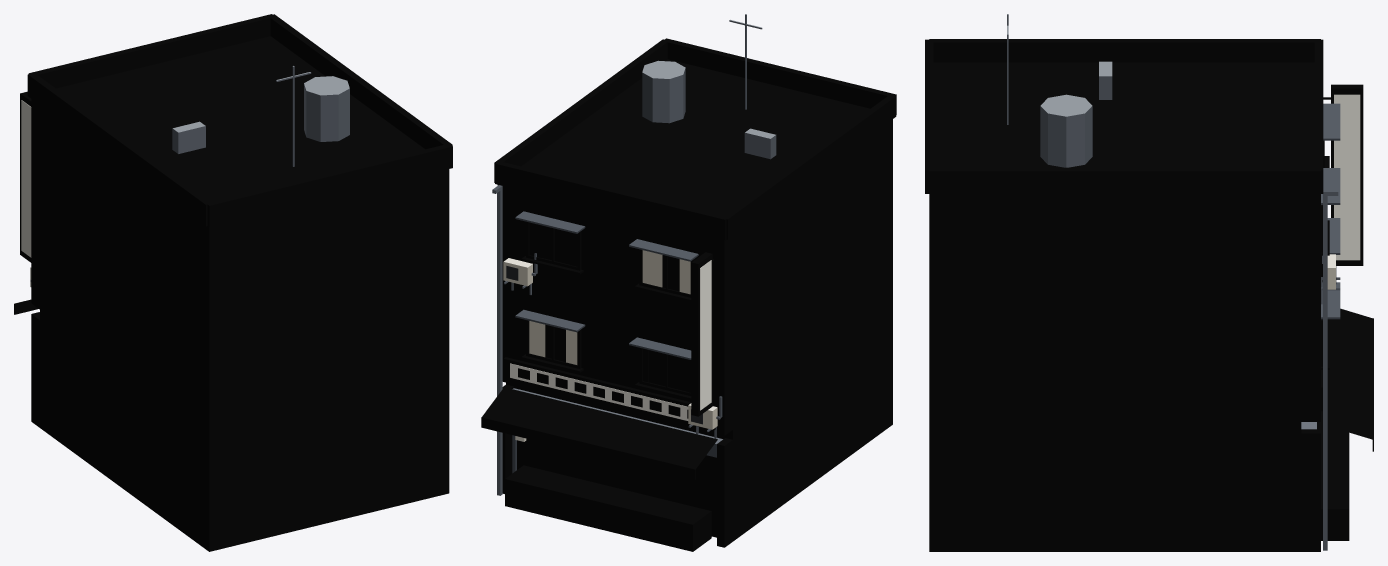
File: Shop_B.fbx
3 views of the same model, side by side, from view 1: azimuth 30°, elevation 25°; view 2: azimuth 150°, elevation 25°; view 3: azimuth 270°, elevation 25° (orthographic). The views are drawn at different scales.
Parts seen in each view (by area): view 1: BodyUp.001, RoofTop.002, BodyLow.001, RoofThings, GlowBlade, Pilasters.001; view 2: BodyUp.001, RoofTop.002, BodyLow.001, Awning, Glass.006, ShopStall.001, RoofThings, WinFrame.006, Hoods.005, Pilasters.001, Curtain0.006, Blade (+8 smaller); view 3: BodyUp.001, RoofTop.002, BodyLow.001, Awning, RoofThings, GlowBlade, ShopStall.001, Pilasters.001, Hoods.005, Pipes.006, Blade, WinFrame.006.
Part boxes in pixels (bbox=[...]): BodyUp.001: bbox=[31, 99, 449, 433]; RoofTop.002: bbox=[27, 14, 452, 227]; BodyLow.001: bbox=[40, 310, 449, 551]; RoofThings: bbox=[172, 66, 349, 166]; GlowBlade: bbox=[21, 100, 31, 257]; Pilasters.001: bbox=[31, 312, 39, 427]; BodyUp.001: bbox=[497, 119, 892, 435]; RoofTop.002: bbox=[494, 38, 896, 239]; BodyLow.001: bbox=[506, 313, 892, 541]; Awning: bbox=[481, 387, 717, 479]; Glass.006: bbox=[517, 225, 716, 536]; ShopStall.001: bbox=[505, 465, 711, 551]; RoofThings: bbox=[642, 14, 776, 159]; WinFrame.006: bbox=[521, 221, 694, 399]; Hoods.005: bbox=[515, 211, 698, 359]; Pilasters.001: bbox=[502, 384, 732, 547]; Curtain0.006: bbox=[529, 250, 690, 364]; Blade: bbox=[691, 252, 713, 416]; BodyUp.001: bbox=[929, 195, 1320, 421]; RoofTop.002: bbox=[925, 39, 1323, 194]; BodyLow.001: bbox=[929, 422, 1301, 551]; Awning: bbox=[1321, 308, 1373, 451]; RoofThings: bbox=[1007, 14, 1112, 167]; GlowBlade: bbox=[1334, 94, 1360, 260]; ShopStall.001: bbox=[1317, 422, 1349, 540]; Pilasters.001: bbox=[1301, 429, 1320, 551]; Hoods.005: bbox=[1321, 103, 1340, 319]; Pipes.006: bbox=[1322, 190, 1338, 550]; Blade: bbox=[1323, 84, 1363, 265]; WinFrame.006: bbox=[1321, 140, 1329, 369].
Bounding box in the file's own units: 7.2 × 12 × 10.32.
